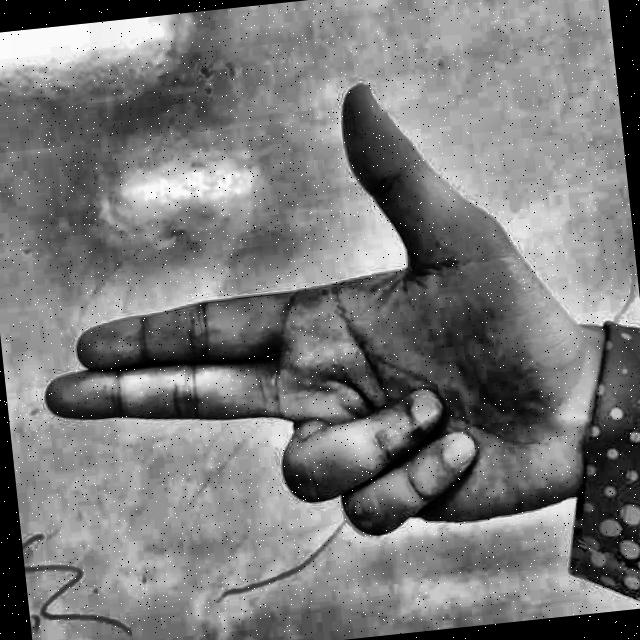Jha: (0, 26, 634, 640)
